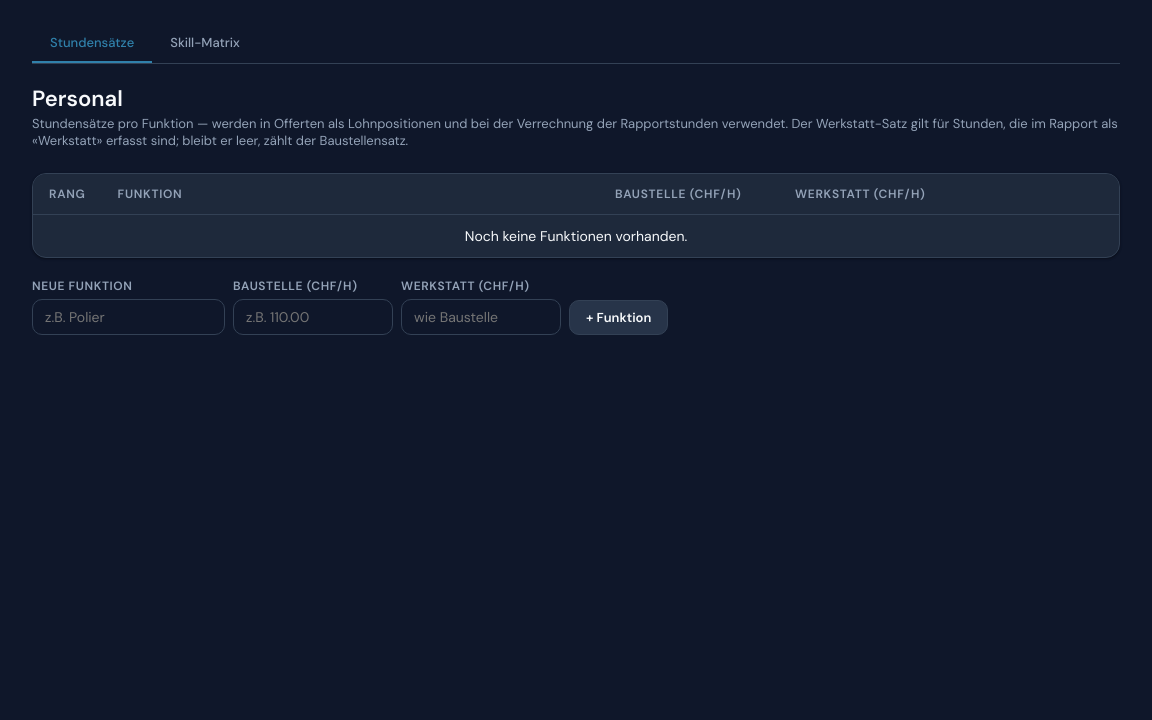
Test: Skill-Matrix › zeigt die Pillen je Mitarbeiter und markiert ein abgelaufenes Zertifikat
The width and height of the screenshot is (1152, 720).
Click the button "Skill-Matrix" at (205, 44), box [152,24,258,63]
(page scrolled)
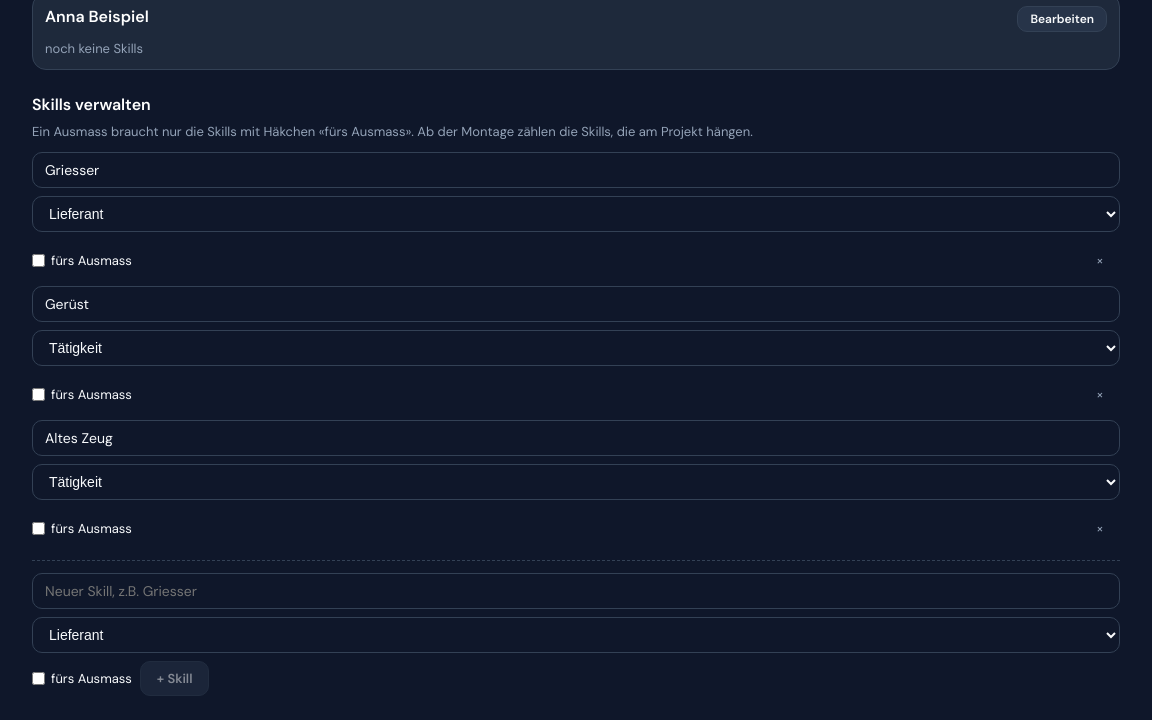
Check: the field showing "Altes Zeug" is shown, box [32,420,1120,456]
